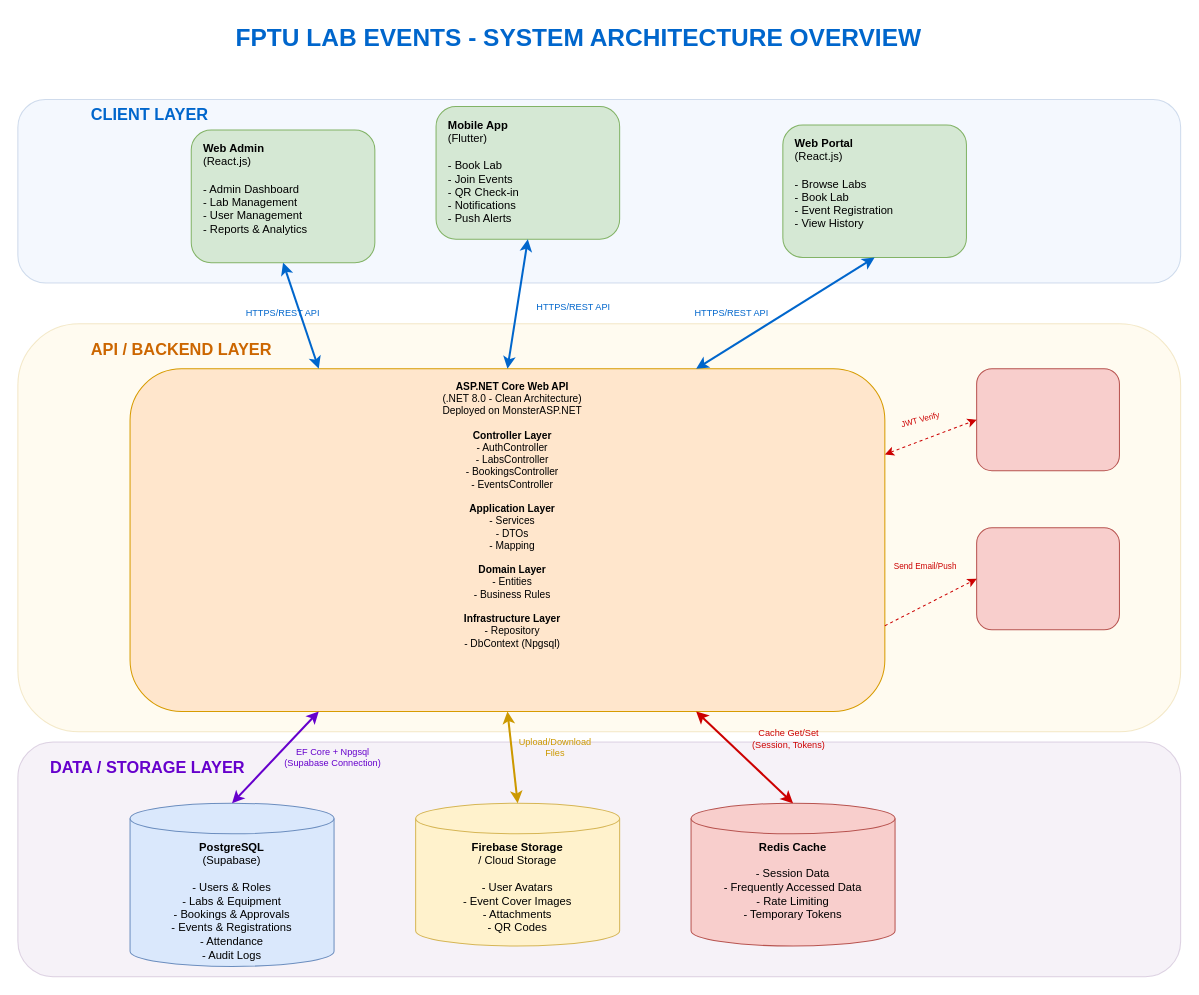
Some shapes in this 1199 by 995 pixel diagram are drawn without their labels. The centre of each missing label's shape, as x and y in pixels:
"Authentication - JWT Token - Google OAuth 2.0 - Refresh Token" goes at [1047,419].
"Notification - Email (SMTP) - In-App - Push (Firebase)" goes at [1047,578].
